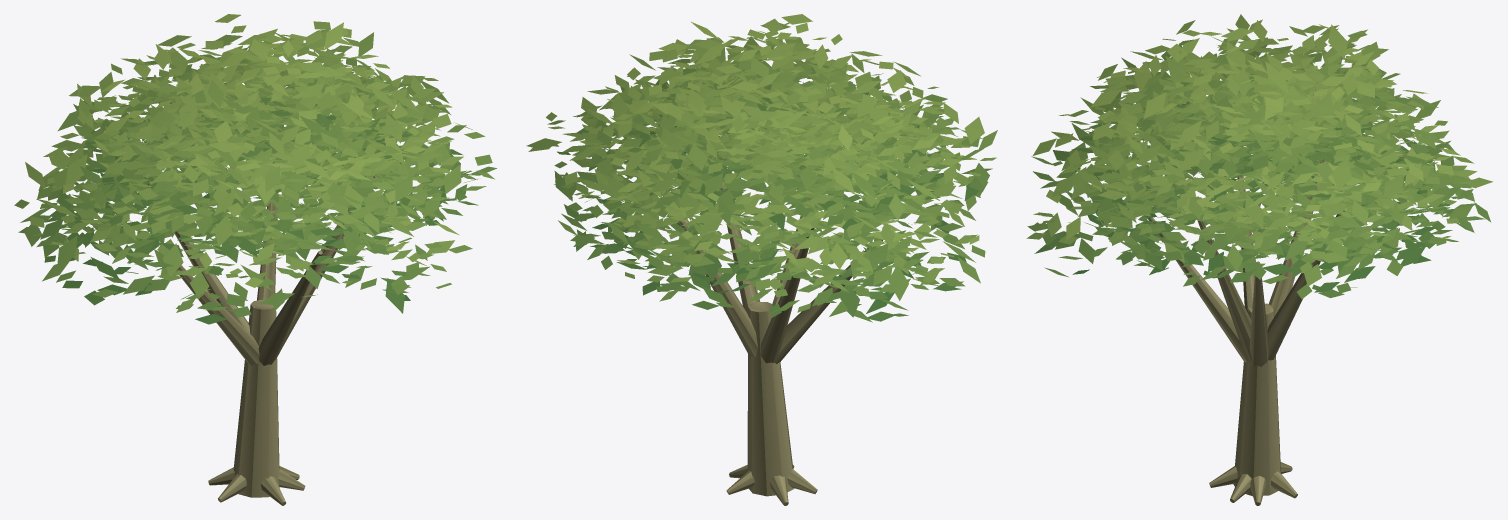
Rendered from broadleaf_tree.glb.
3 renders of one model, left to right at view 1: azimuth 30°, elevation 25°; view 2: azimuth 150°, elevation 25°; view 3: azimuth 270°, elevation 25°, orthographic.
Parts seen in each view (by area): view 1: Canopy, Body; view 2: Canopy, Body; view 3: Canopy, Body.
Boxes of the visible parts, x1=… form: Canopy: x1=14, y1=14, x2=496, y2=324; Body: x1=146, y1=130, x2=377, y2=505; Canopy: x1=526, y1=14, x2=997, y2=322; Body: x1=662, y1=156, x2=882, y2=505; Canopy: x1=1026, y1=14, x2=1492, y2=299; Body: x1=1148, y1=159, x2=1344, y2=505.
Size of the model in its own units: 7.1 by 7.29 by 6.81.
